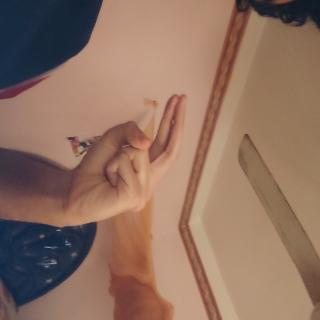ZAY: (67, 170, 174, 320)
